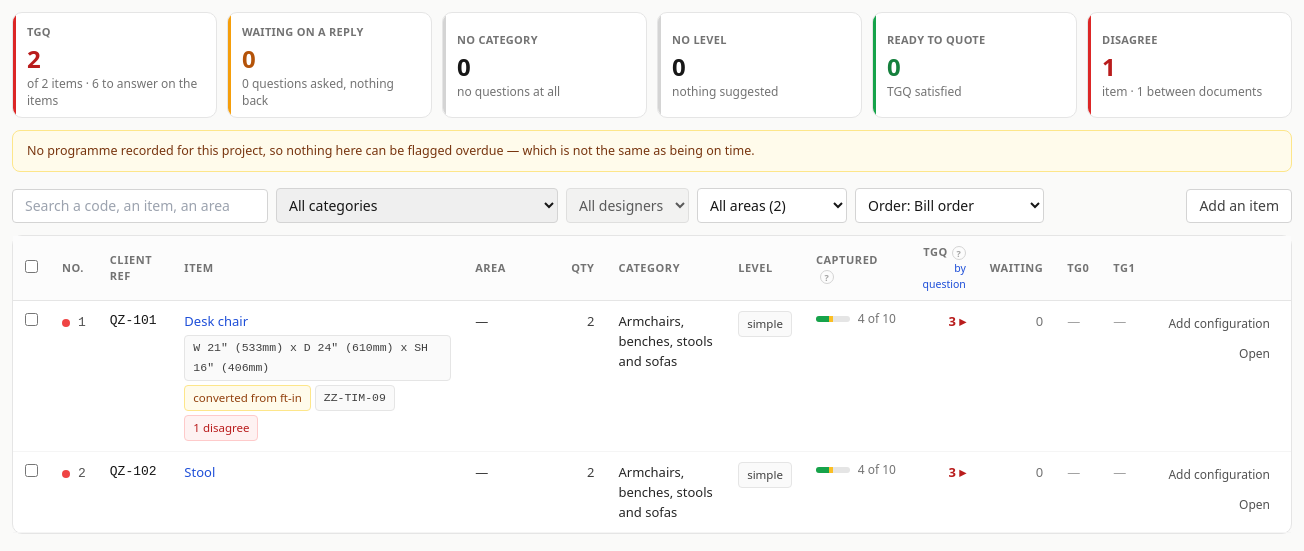
Test: the phase table's item line › filters to the items that disagree without moving any count
Check: the text "Stool" is shown, box [184,463,215,481]
Check: the text "1" is shown, box [1102,50,1115,83]
Click the button "Disagree 1 item · 1 between documents".
click(1190, 65)  # box [1087,12,1292,118]
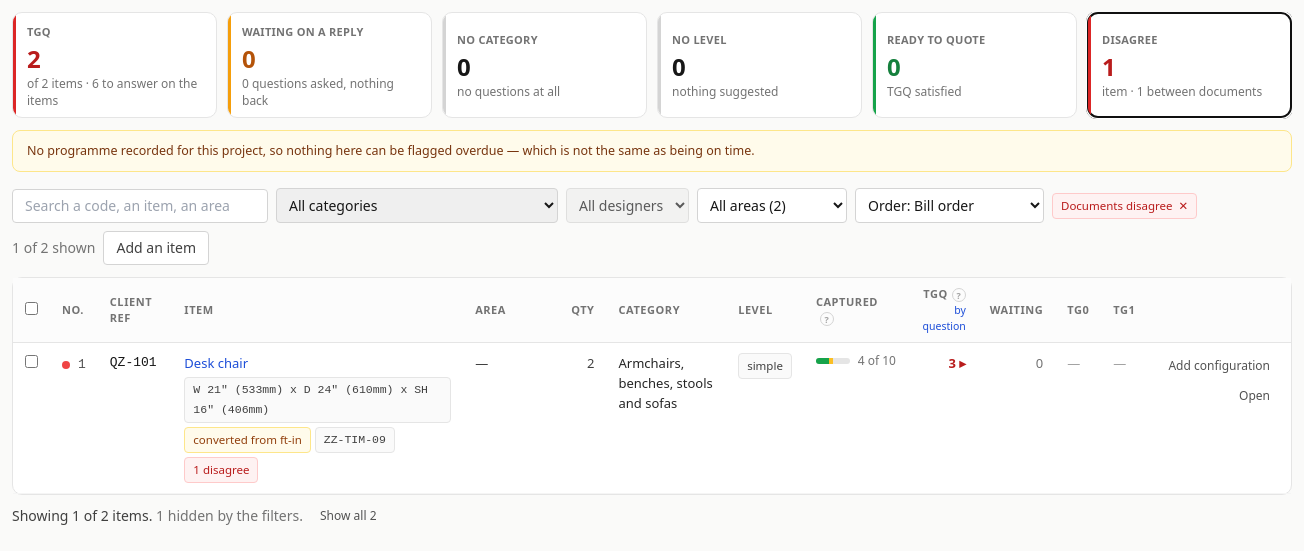
Check: the text "Desk chair" is shown, box [184,354,248,372]
Check: the text "1 of 2 shown" is shown, box [12,238,96,258]
Check: the text "Documents disagree" is shown, box [1061,198,1172,212]
